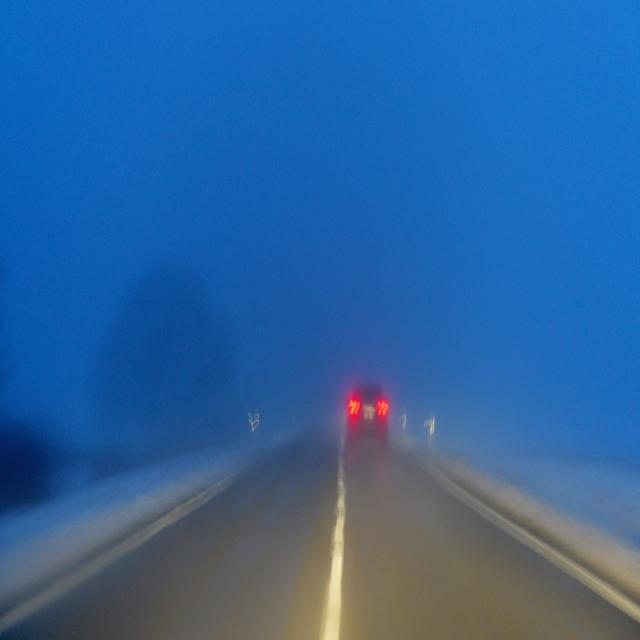car: (348, 380, 392, 445)
